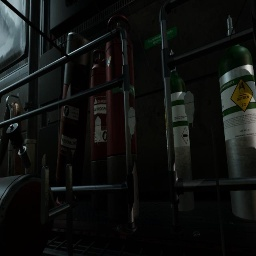0: (218, 15, 256, 223), (164, 49, 194, 213)
NitrogenTank ,: (105, 14, 139, 224), (56, 32, 94, 209), (0, 173, 55, 256), (90, 49, 108, 212)
